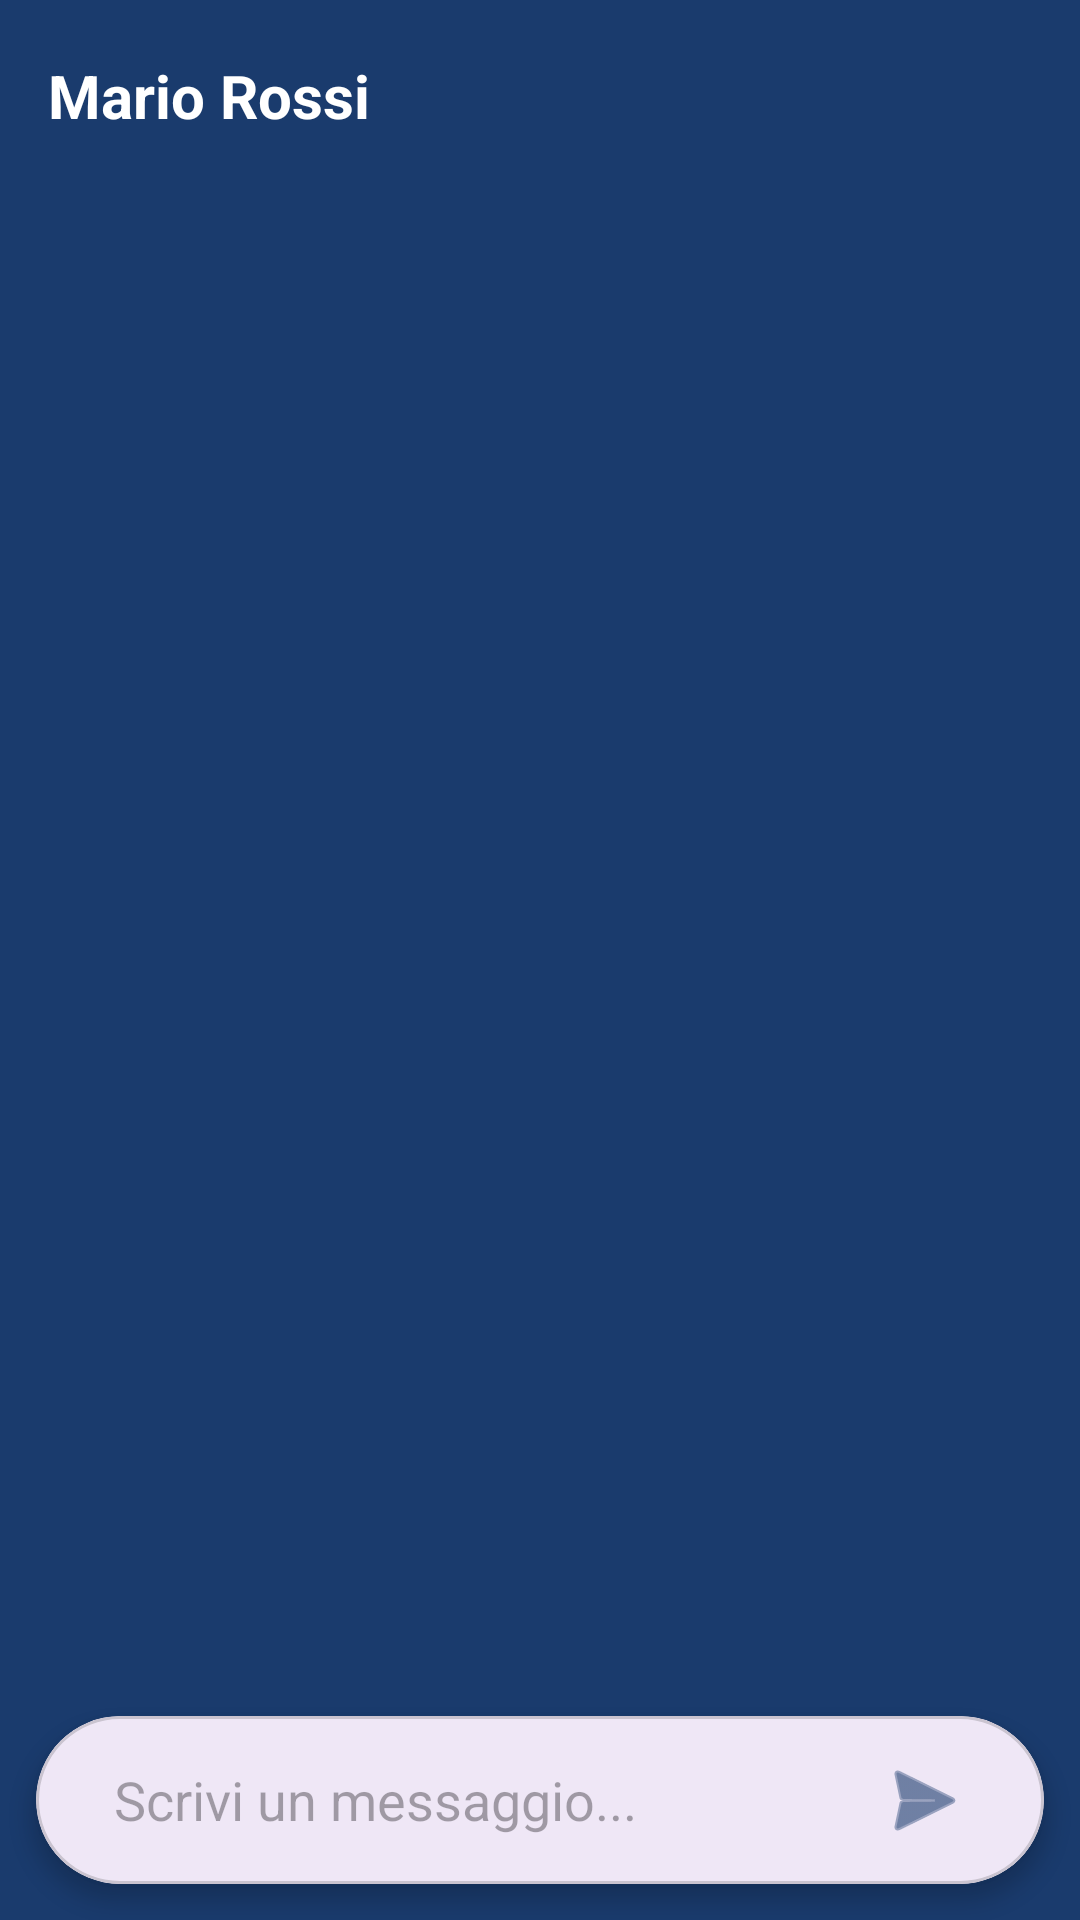

Screen size 1080px x 1920px. Icon name, then its box in pixels as bbox(x1, y1, x2, y2):
Invia: bbox(894, 1770, 956, 1831)
